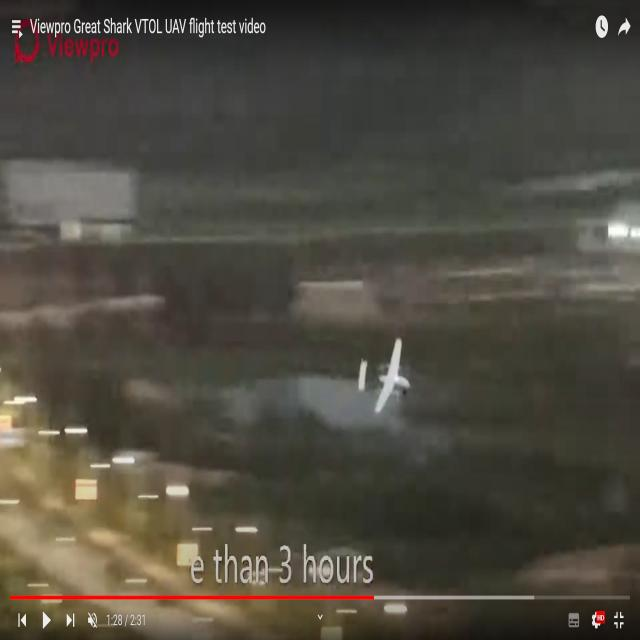iha: (358, 370, 411, 377)
